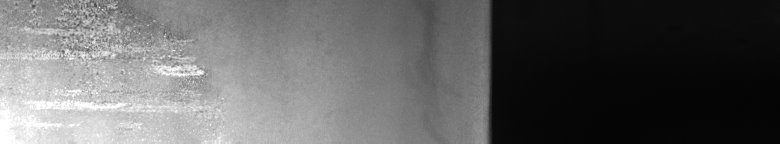hc: (22, 4, 208, 108)
